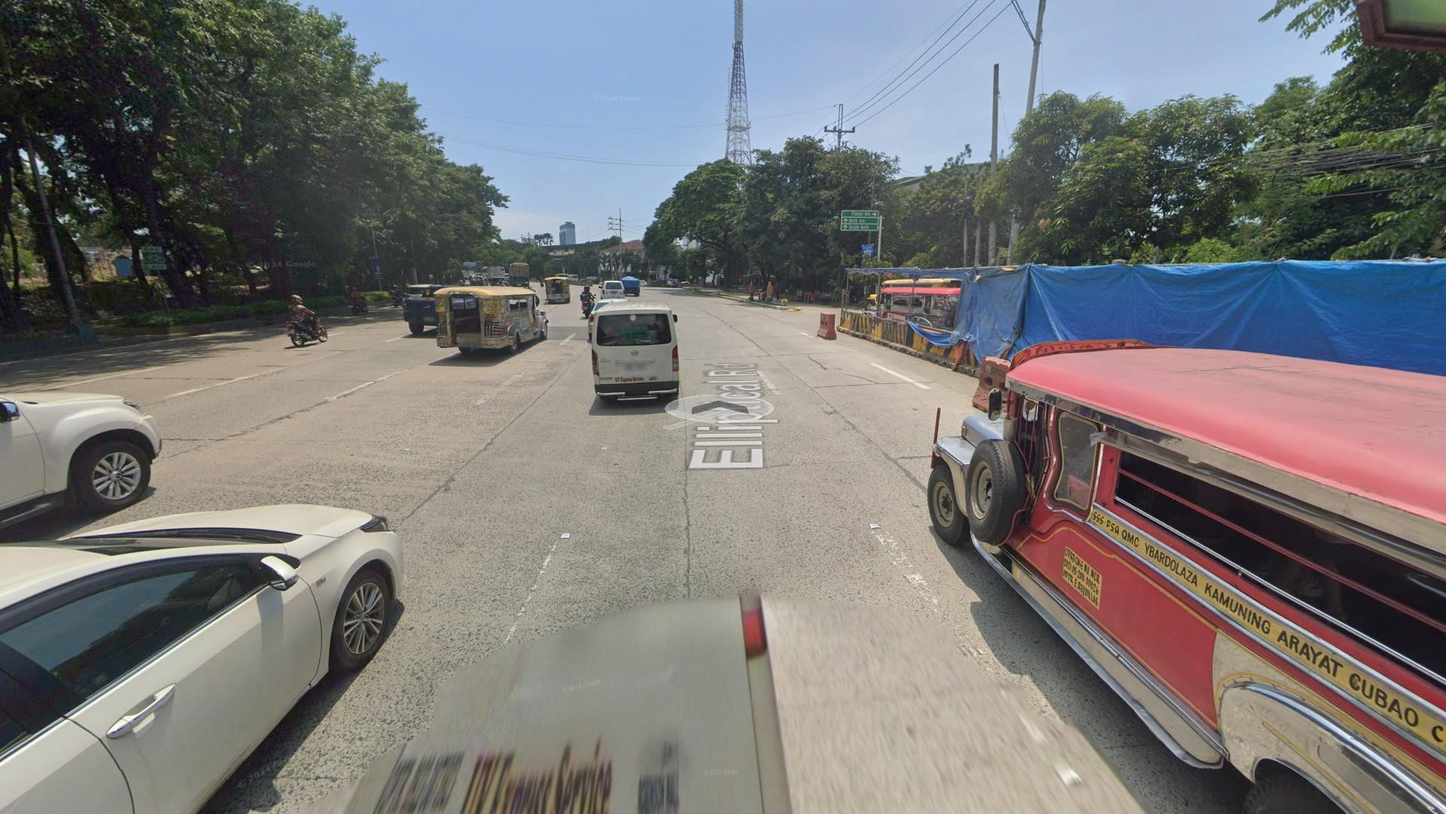pedestrian: (763, 280, 774, 305), (748, 280, 755, 303), (774, 281, 781, 302)
